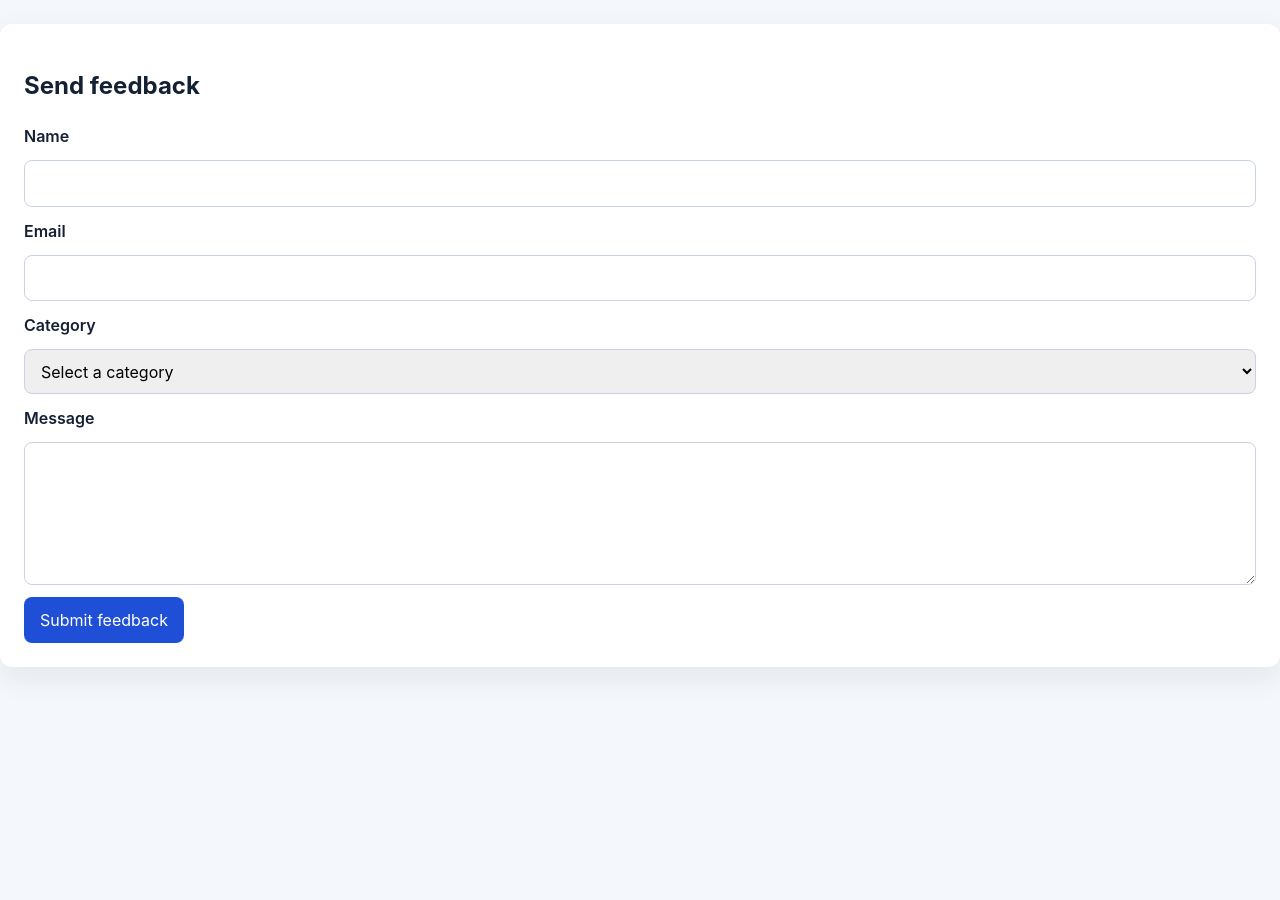
Test case: FeedbackForm acceptance › shows the success message after a valid submission
Type "Jane Doe" into the field labelled "Name" at (640, 183), box [24,160,1256,207]
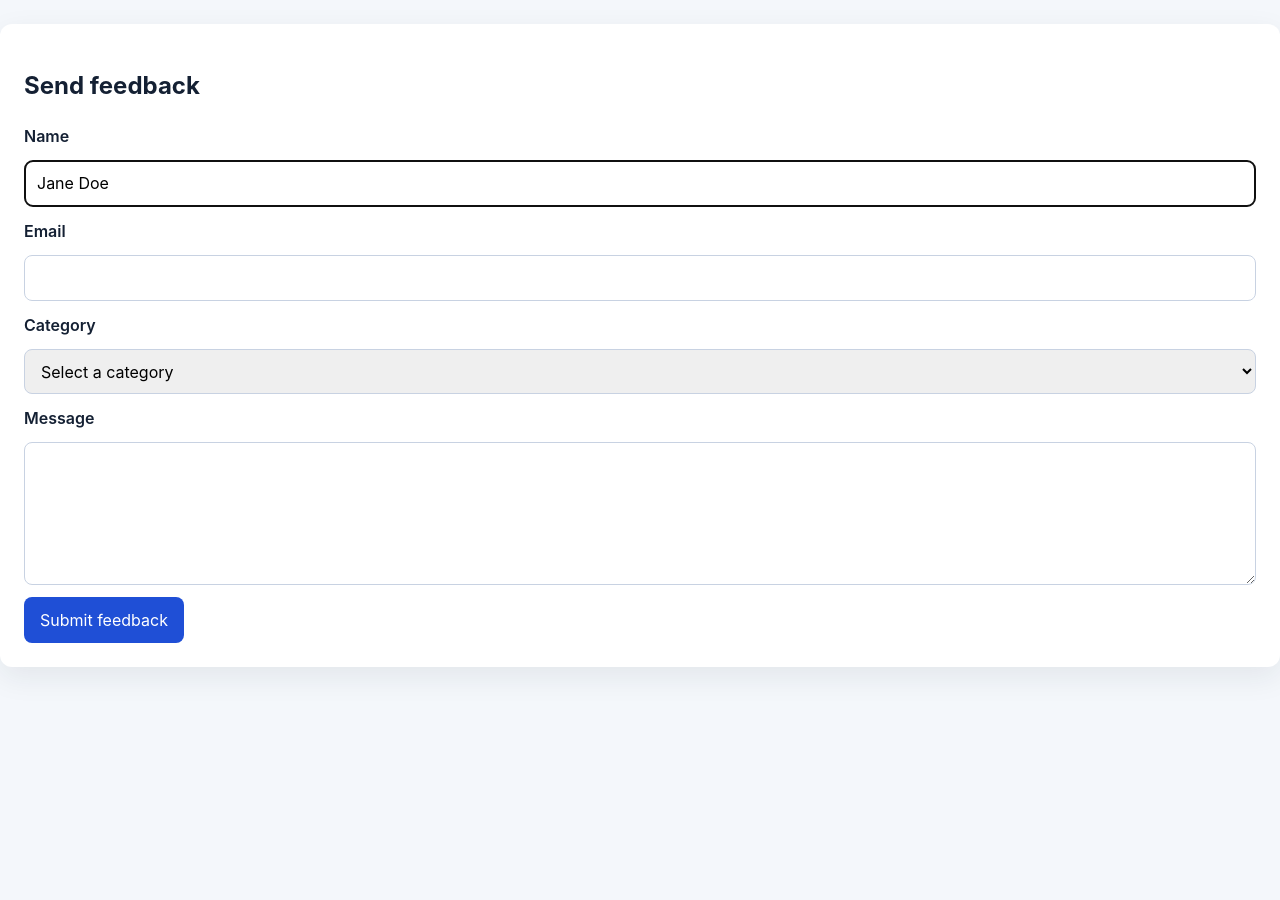
Type "jane@example.com" into the field labelled "Email" at (640, 278), box [24,255,1256,301]
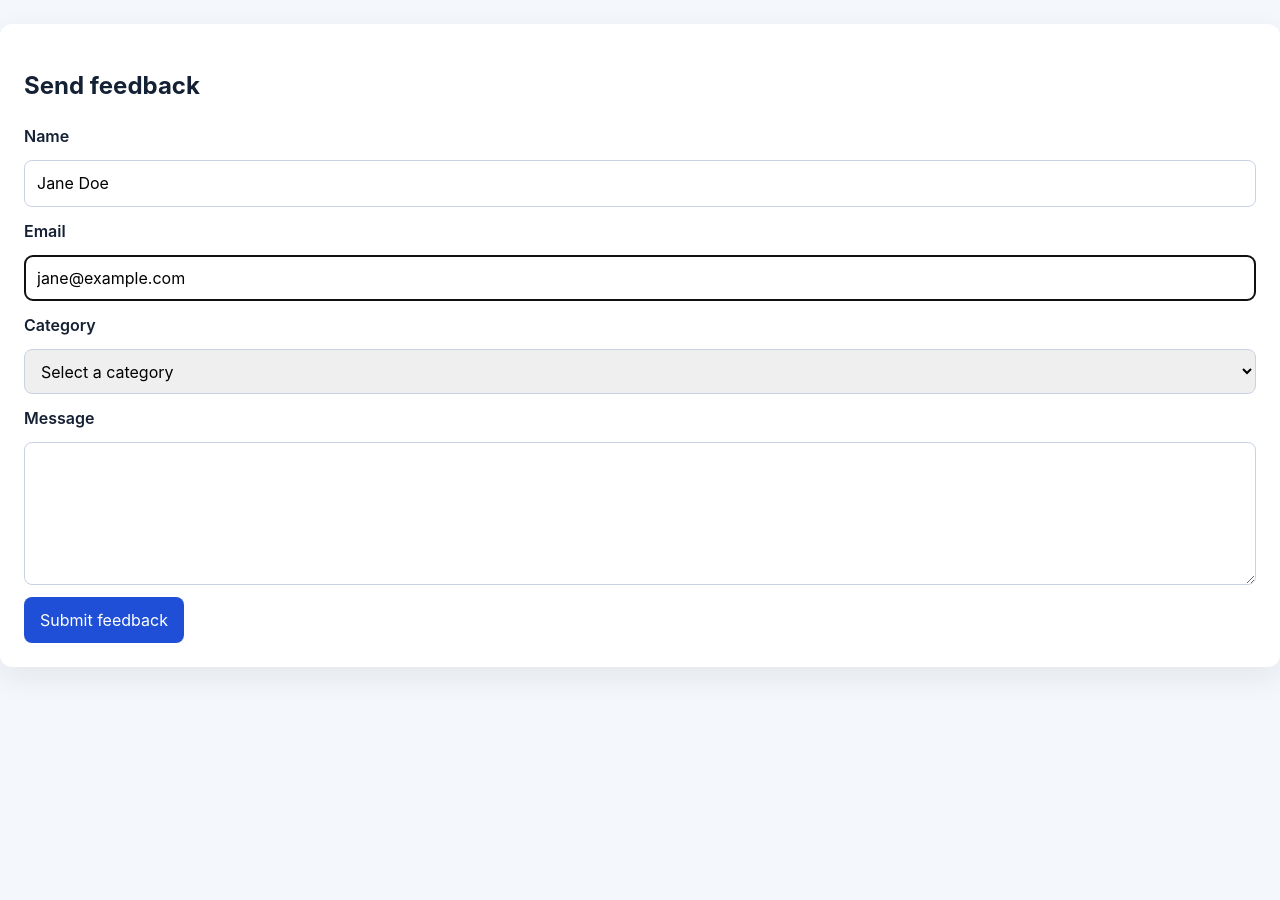
Select "Feature Request" in the dropdown labelled "Category" at (640, 372), box [24,349,1256,394]
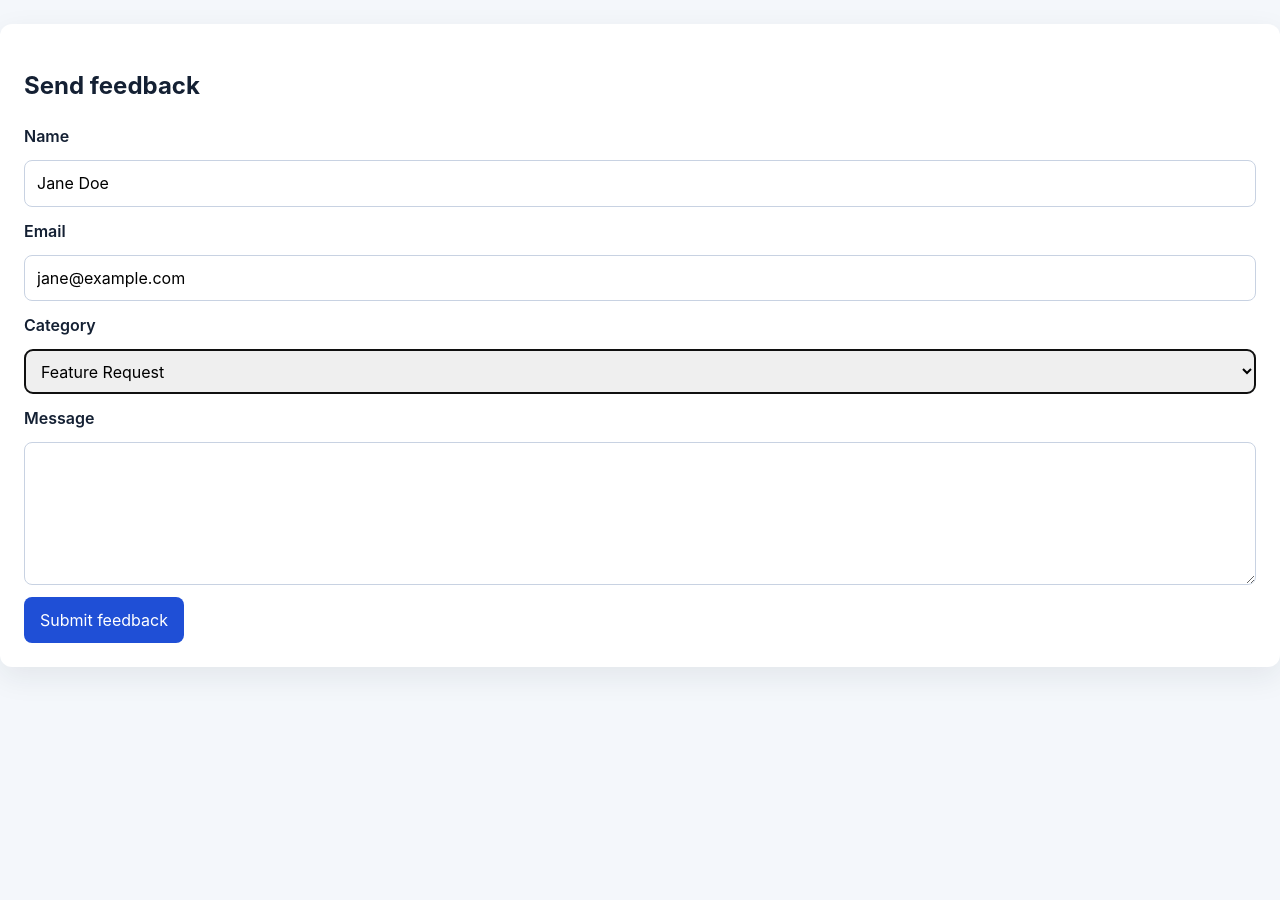
Type "Please add dark mode support." into the text box labelled "Message" at (640, 514), box [24,442,1256,585]
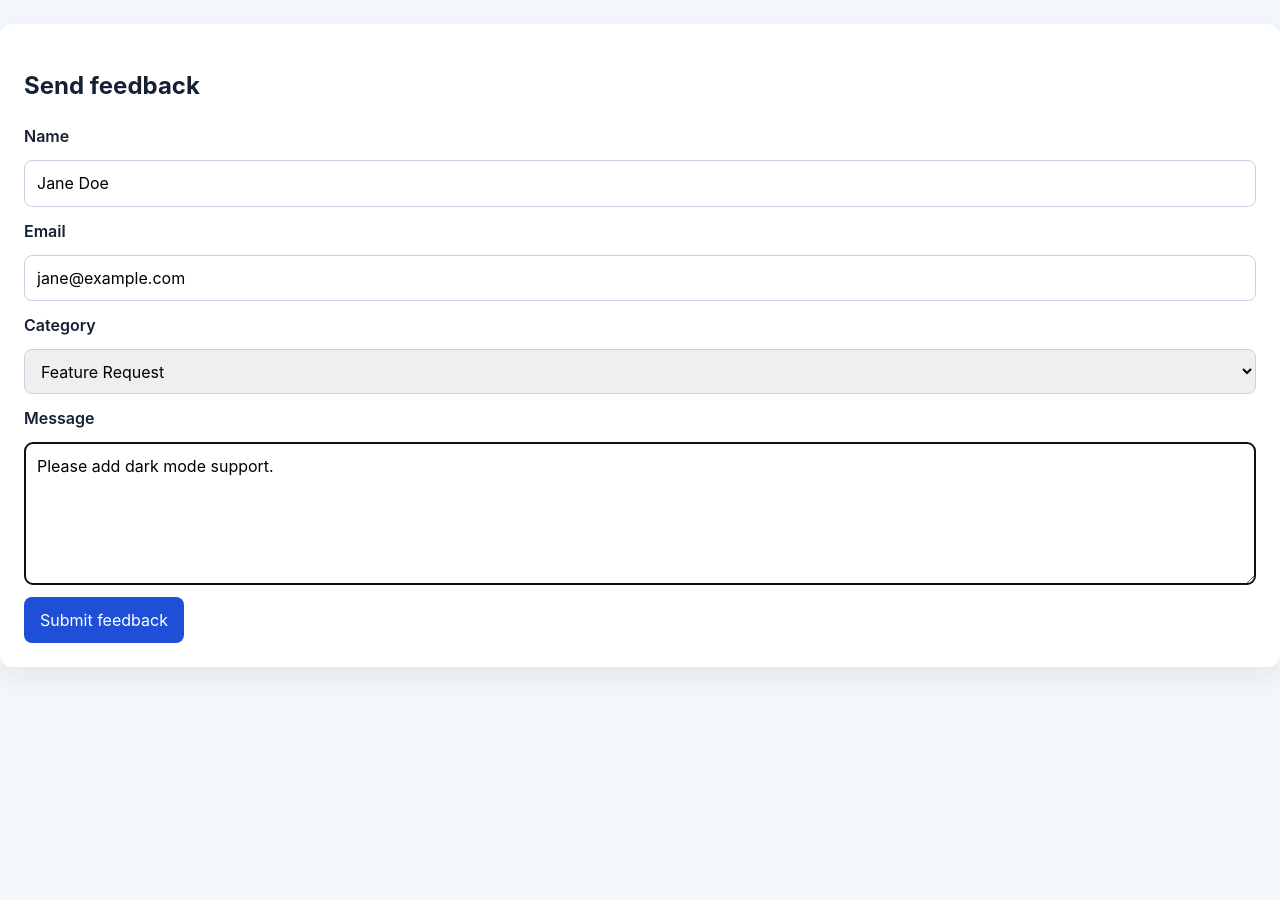
Click the button "Submit feedback" at (104, 620), box [24,597,184,643]
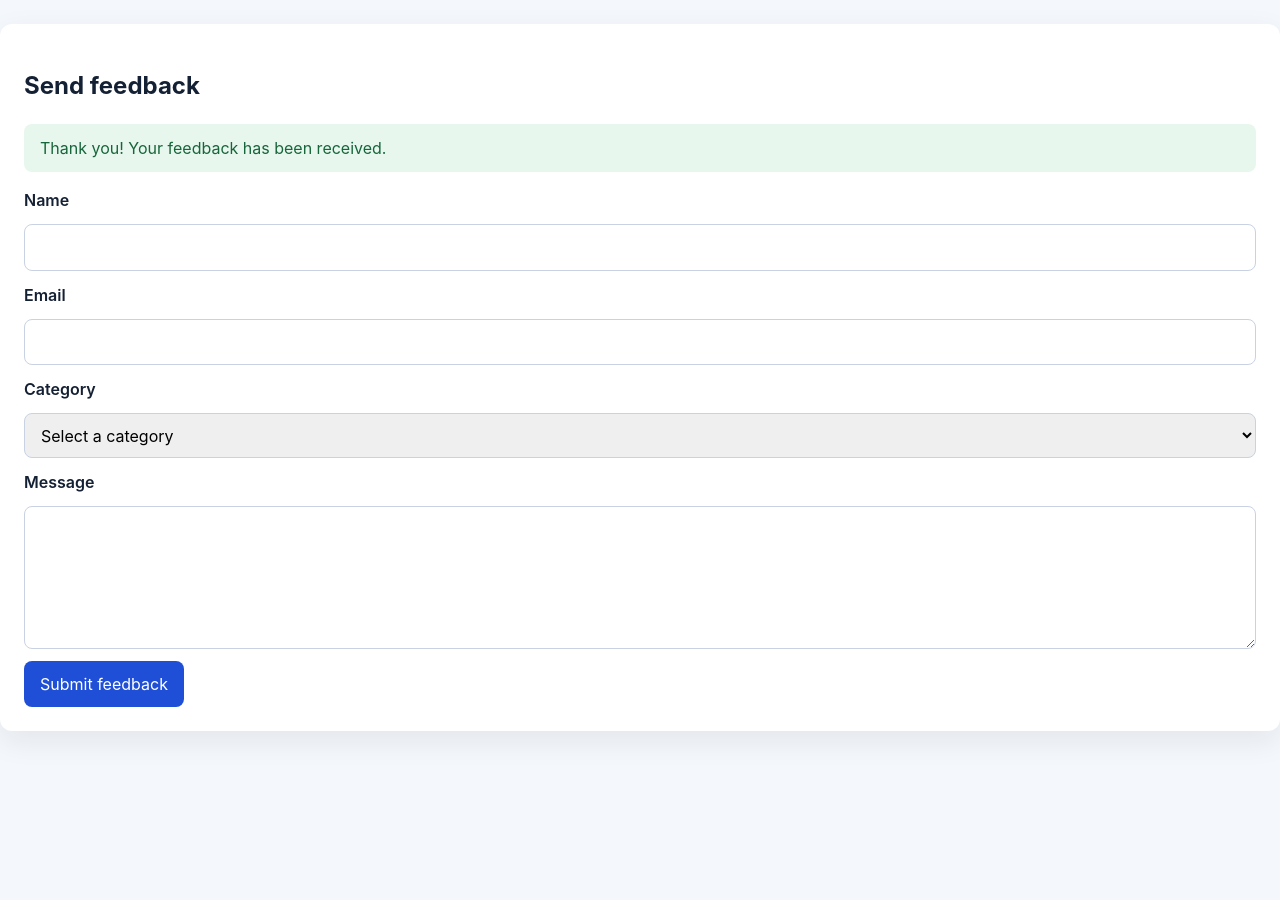
Check: the message reads "Thank you! Your feedback has been received.", box [40,138,386,158]
